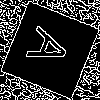A: (25, 25, 81, 75)
